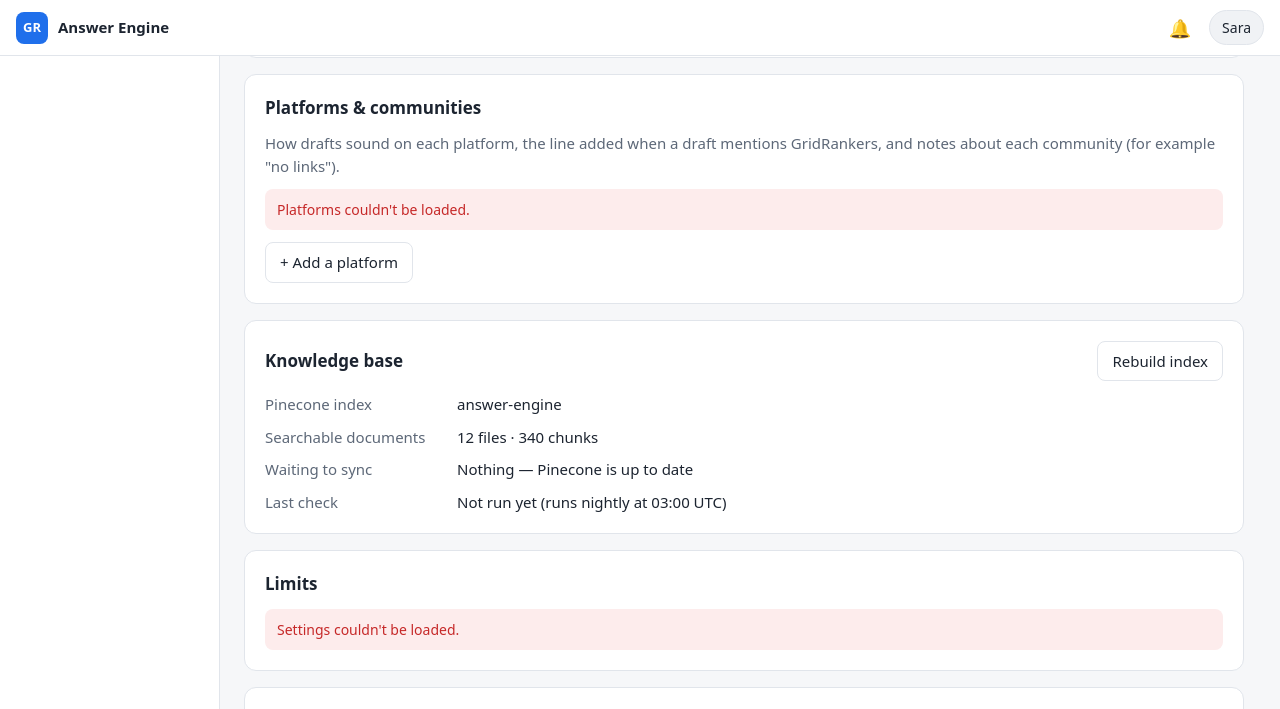
Test: rebuild asks first
(page scrolled)
Click the button "Rebuild index".
click(1160, 361)  # box [1097,340,1223,381]
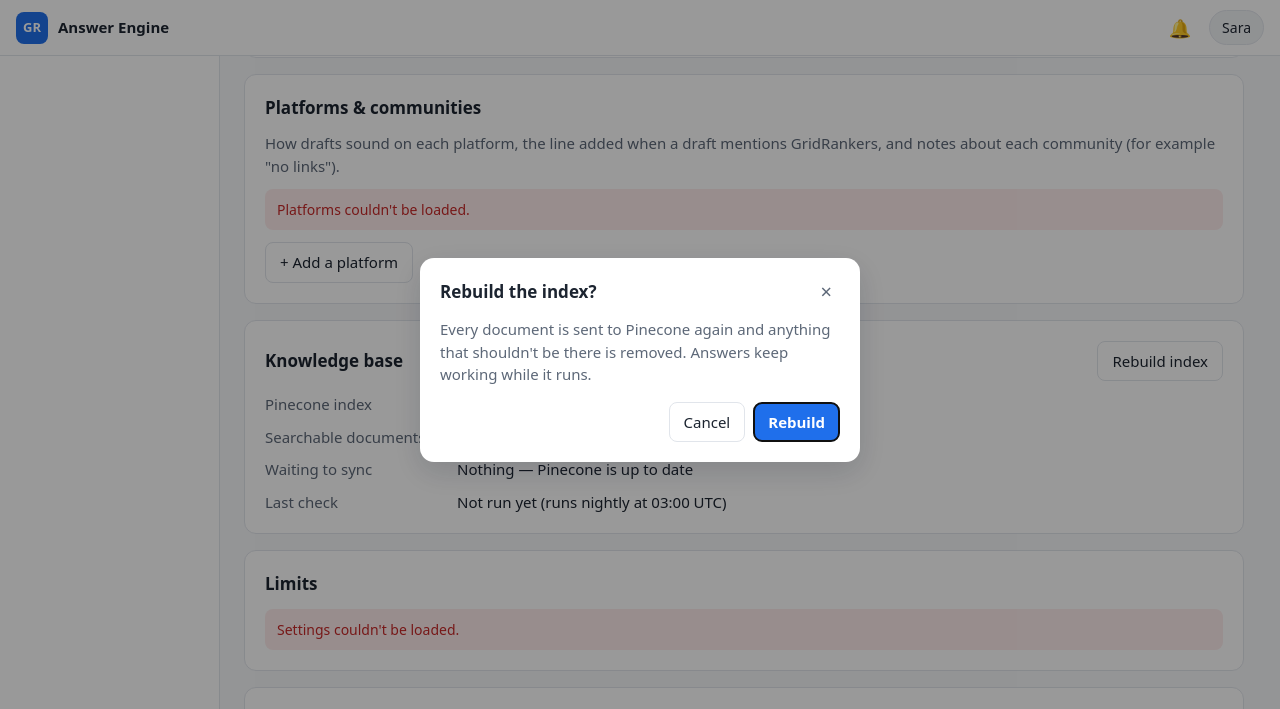
Click the button "Rebuild".
click(797, 422)  # box [753,402,840,442]
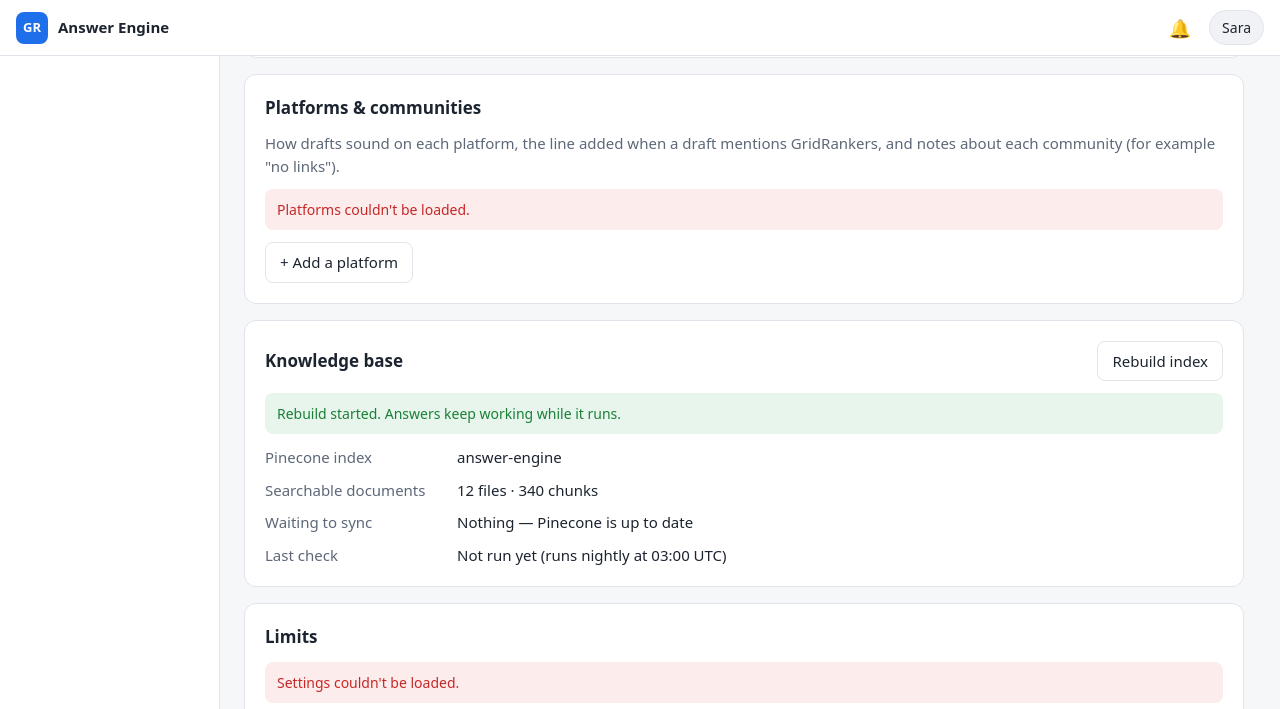
Check: the text "Rebuild started. Answers keep working while it runs." is shown, box [265,393,1223,434]
